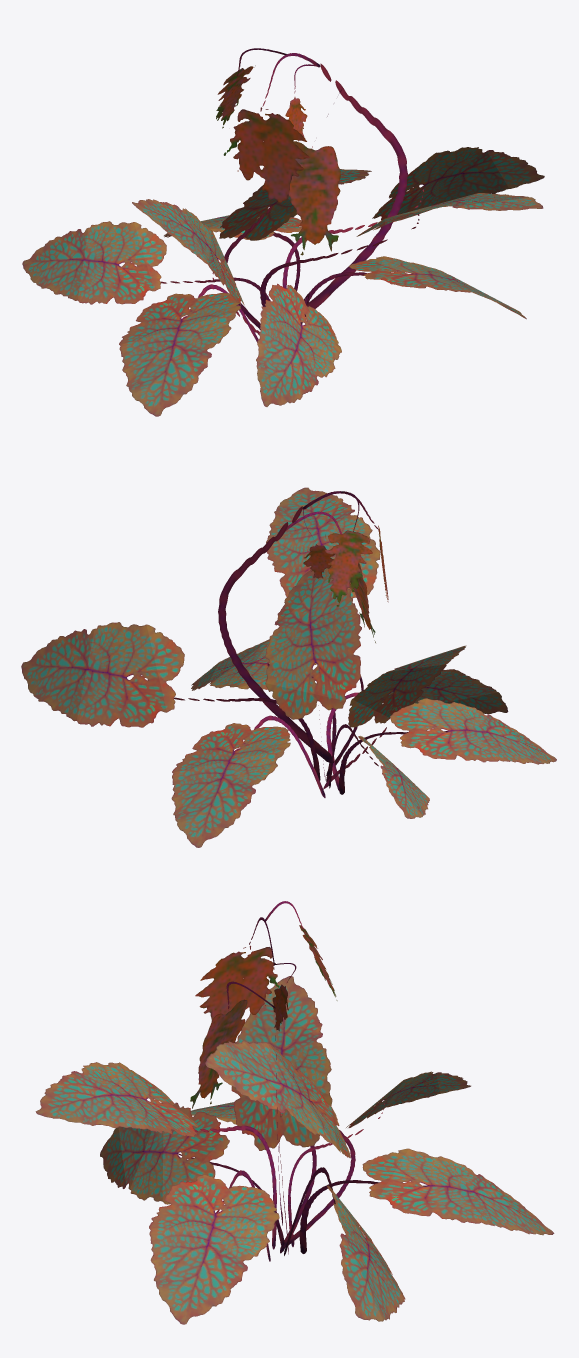
Rendered from Spin Reef B6.fbx.
3 views of the same model, one above another, from view 1: azimuth 30°, elevation 25°; view 2: azimuth 150°, elevation 25°; view 3: azimuth 270°, elevation 25° (orthographic). The views are drawn at different scales.
Visible parts, largest first — view 1: Spin Reef B6; view 2: Spin Reef B6; view 3: Spin Reef B6.
Boxes of the visible parts, x1,y1,x2,y2 form: Spin Reef B6: [22, 48, 544, 416]; Spin Reef B6: [21, 487, 556, 847]; Spin Reef B6: [35, 901, 554, 1324].
Size of the model in its own units: 220 by 149 by 196.
